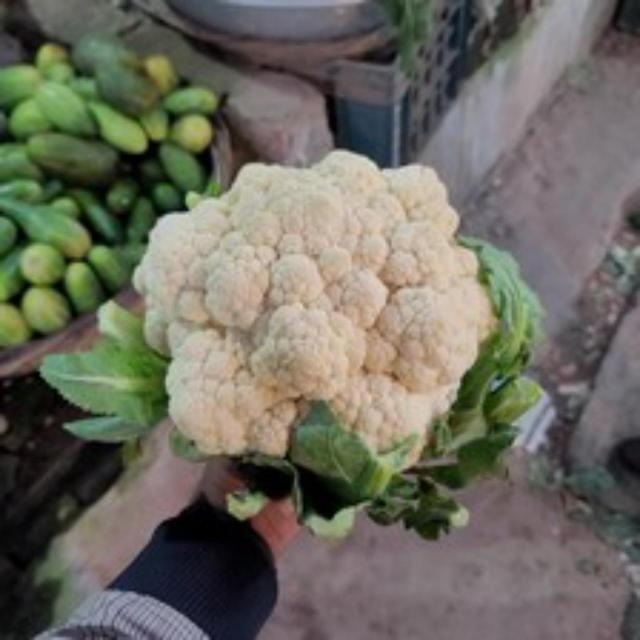cauliflower: (129, 134, 501, 495)
